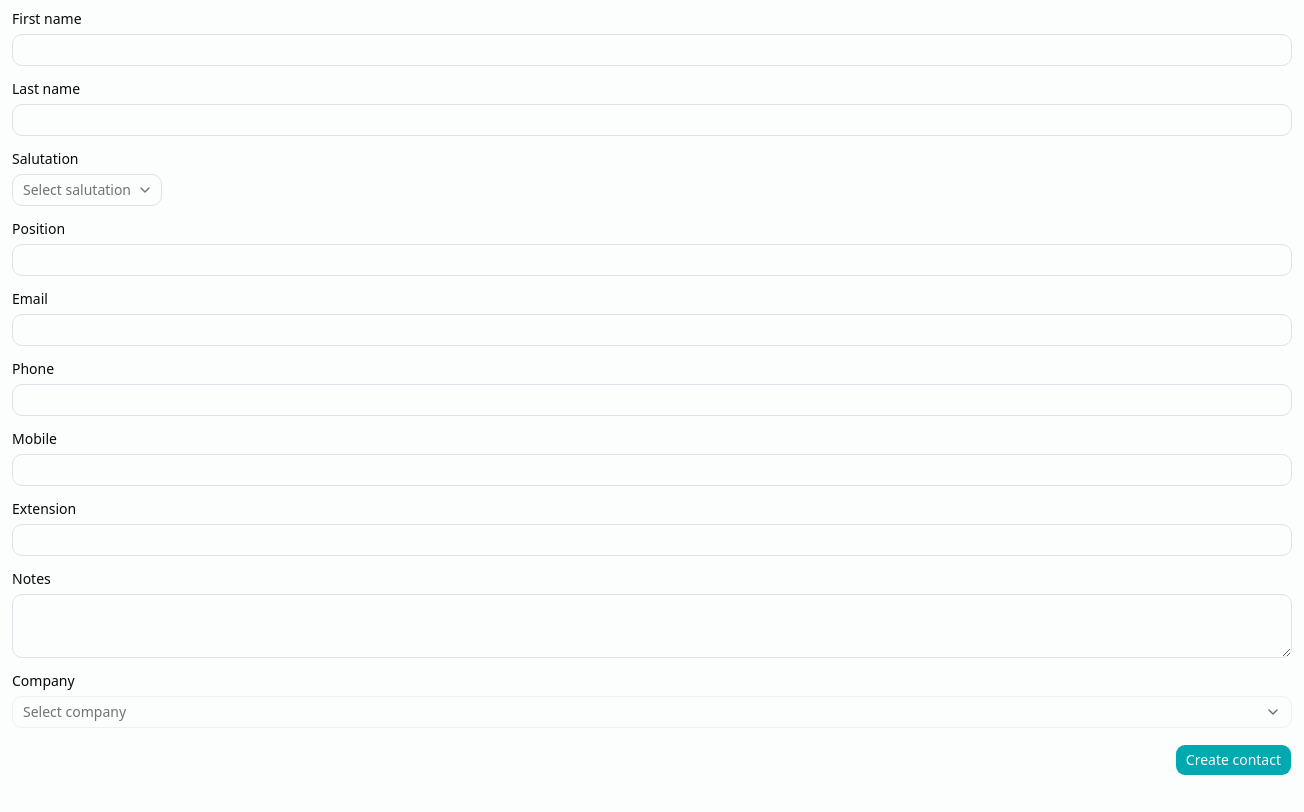
Scenario: ContactCreateForm + contactSchema › blocks submit when First name is empty
Type "OnlyLast" into the field labelled "Last name" at (652, 120), box [12,104,1292,136]
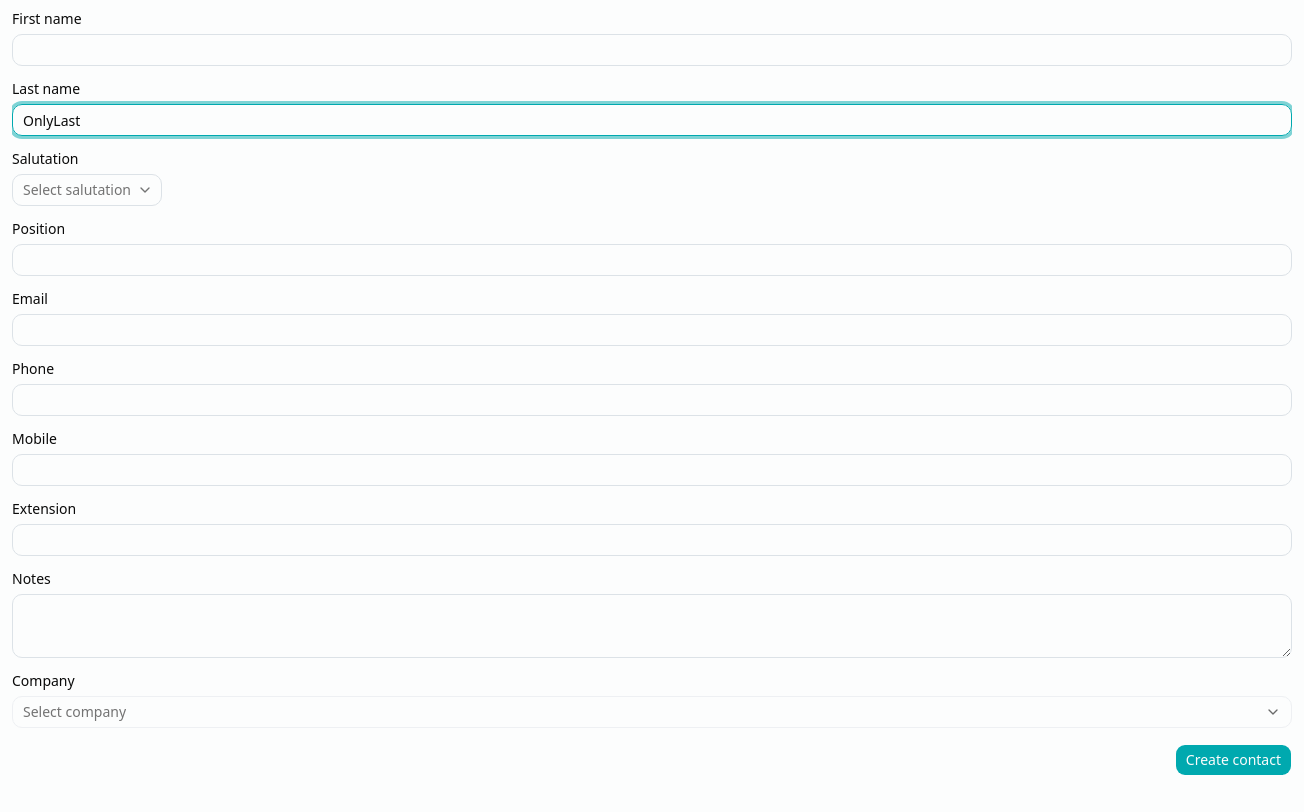
Click the button "Create contact" at (1233, 760), box [1175,744,1292,776]
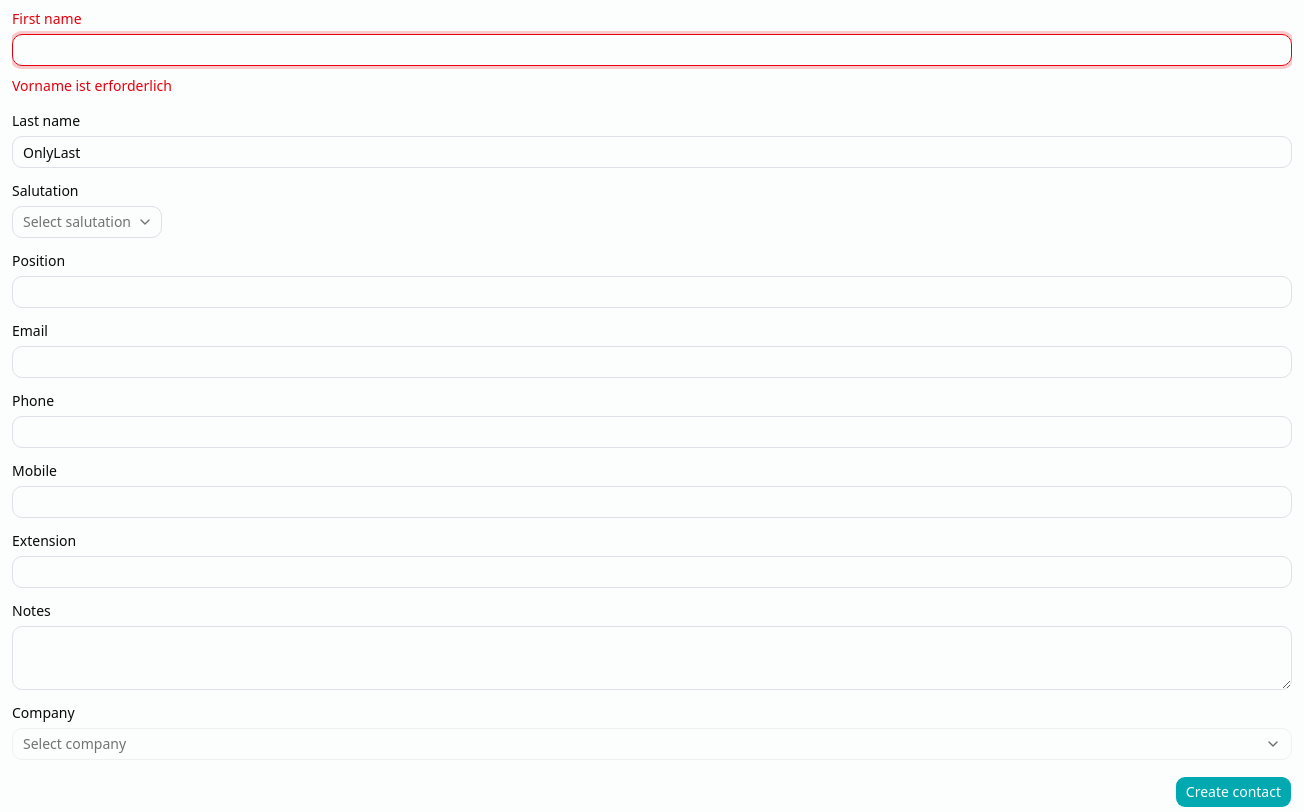
Expected: the text "Vorname ist erforderlich" is shown, [12,76,172,95]
